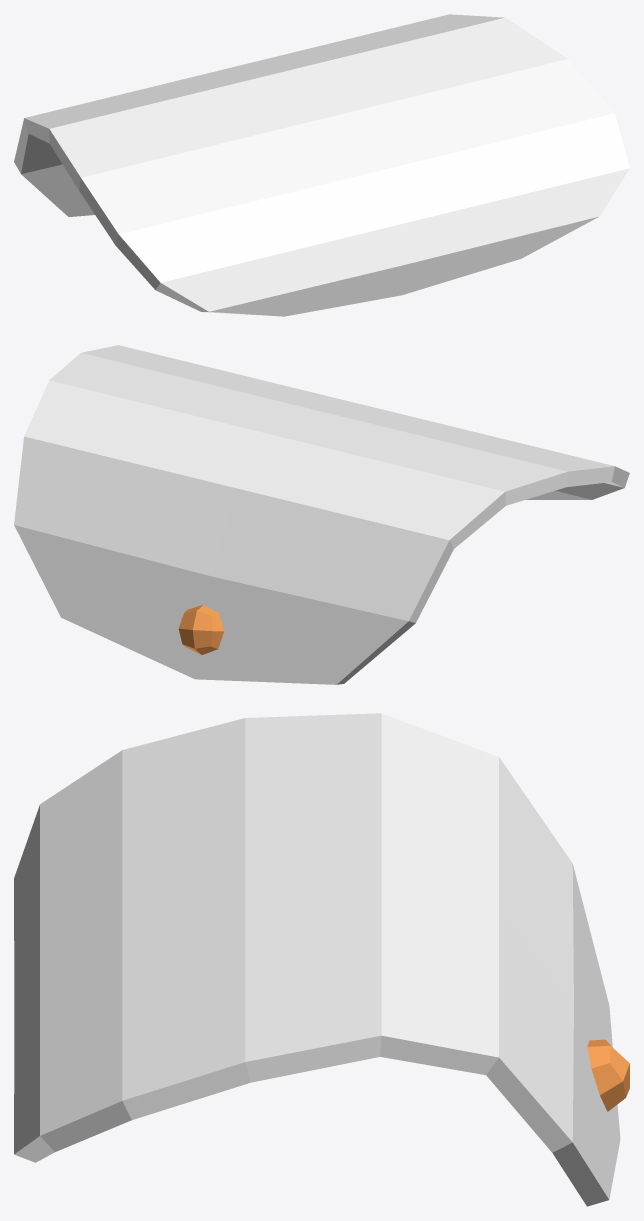
The model's file is playerbackpackflap.fbx.
3 renders of one model, top to bottom at view 1: azimuth 30°, elevation 25°; view 2: azimuth 150°, elevation 25°; view 3: azimuth 270°, elevation 25°, orthographic. The views are drawn at different scales.
Visible parts, largest first — view 1: flap; view 2: flap; view 3: flap.
Boxes of the visible parts, x1=… form: flap: x1=14, y1=14, x2=629, y2=316; flap: x1=14, y1=345, x2=629, y2=684; flap: x1=14, y1=713, x2=629, y2=1206.
Bounding box in the file's own units: 0.3121 × 0.1127 × 0.2316.
